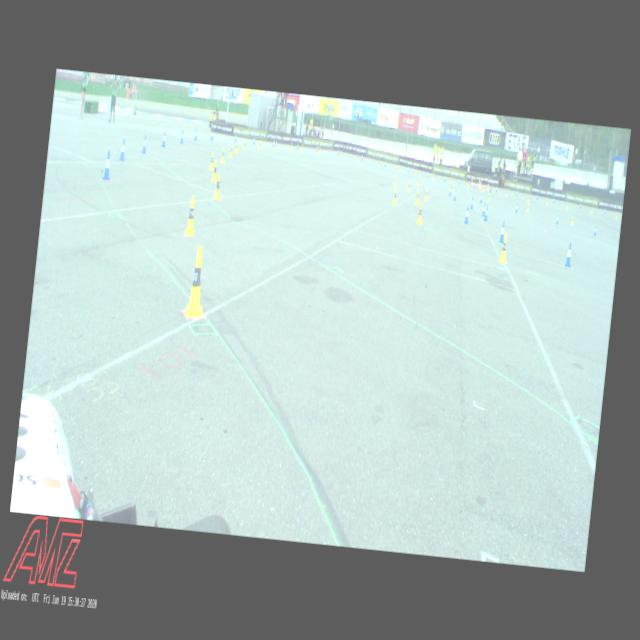blue_cone: (102, 150, 114, 180), (563, 242, 573, 268), (118, 138, 126, 162), (498, 220, 506, 243), (141, 134, 148, 153), (160, 130, 167, 146), (464, 205, 469, 223), (481, 202, 486, 215), (469, 196, 474, 208), (180, 129, 184, 144), (484, 206, 488, 221), (452, 189, 457, 200), (194, 128, 198, 140), (448, 186, 452, 196), (272, 138, 276, 146), (479, 192, 482, 202), (515, 203, 518, 213), (210, 130, 213, 140), (234, 134, 237, 142), (252, 136, 255, 144), (556, 214, 558, 224), (594, 226, 596, 236), (604, 206, 606, 214), (536, 192, 538, 200), (316, 144, 318, 152), (408, 165, 410, 173), (458, 178, 460, 185), (515, 190, 517, 197), (495, 185, 497, 192), (426, 170, 428, 177), (296, 142, 298, 149), (384, 160, 386, 167), (552, 195, 554, 202), (443, 174, 445, 181), (336, 148, 338, 155), (579, 202, 581, 208), (361, 154, 363, 160), (474, 182, 476, 188)
large_orange_cone: (478, 179, 482, 190), (476, 178, 479, 188), (486, 182, 489, 192), (470, 177, 472, 188)
yellow_cone: (182, 245, 210, 320), (184, 194, 199, 236), (498, 232, 508, 262), (213, 172, 222, 200), (416, 202, 424, 226), (211, 160, 218, 182), (208, 150, 215, 170), (392, 187, 398, 205), (220, 146, 226, 162), (228, 142, 234, 156), (414, 189, 419, 204), (234, 140, 239, 154), (257, 138, 261, 150), (407, 180, 411, 192), (424, 188, 428, 200), (242, 138, 246, 150), (570, 215, 574, 224), (274, 140, 277, 152), (393, 174, 396, 185), (487, 192, 490, 201), (416, 176, 419, 185), (526, 203, 529, 211), (339, 149, 342, 157), (526, 194, 529, 201), (449, 176, 452, 183), (452, 183, 454, 192), (300, 143, 302, 152), (290, 142, 292, 151), (378, 158, 380, 166), (318, 146, 320, 154), (356, 154, 358, 162), (505, 190, 507, 197), (590, 206, 592, 213), (432, 172, 434, 179), (414, 168, 416, 175), (467, 180, 469, 187), (482, 184, 484, 191), (545, 198, 547, 205), (398, 164, 400, 171), (615, 212, 617, 218), (566, 202, 568, 208)
